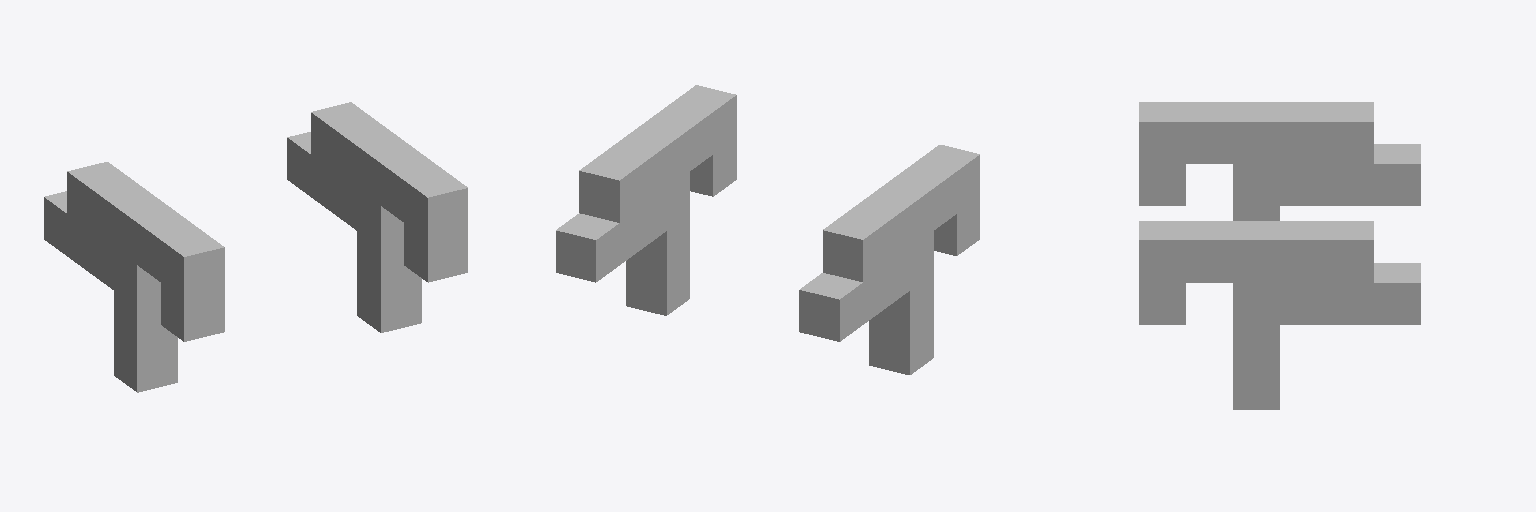
The model's file is Uzi.obj.
3 views of the same model, side by side, from view 1: azimuth 30°, elevation 25°; view 2: azimuth 150°, elevation 25°; view 3: azimuth 270°, elevation 25° (orthographic).
Visible parts, largest first — view 1: object 1; view 2: object 1; view 3: object 1.
Boxes of the visible parts, x1,y1,x2,y2 form: object 1: [44, 102, 467, 392]; object 1: [556, 85, 979, 374]; object 1: [1139, 102, 1420, 409].
Size of the model in its own units: 0.7 by 0.4 by 0.6.